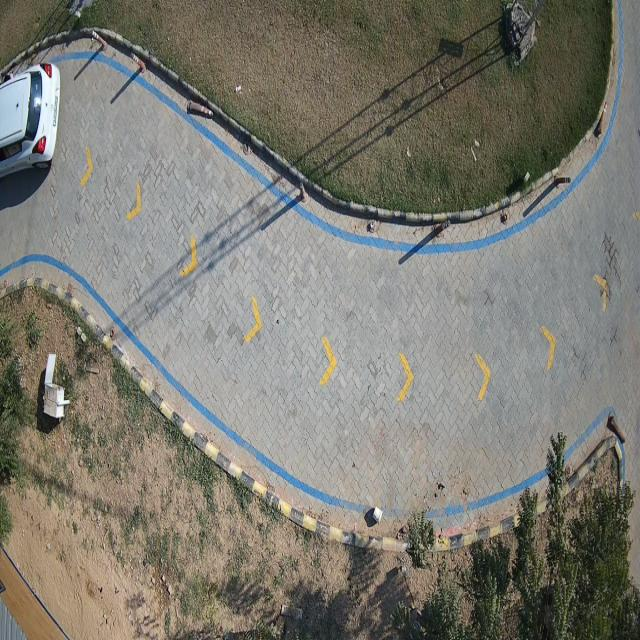car: (0, 62, 61, 177)
